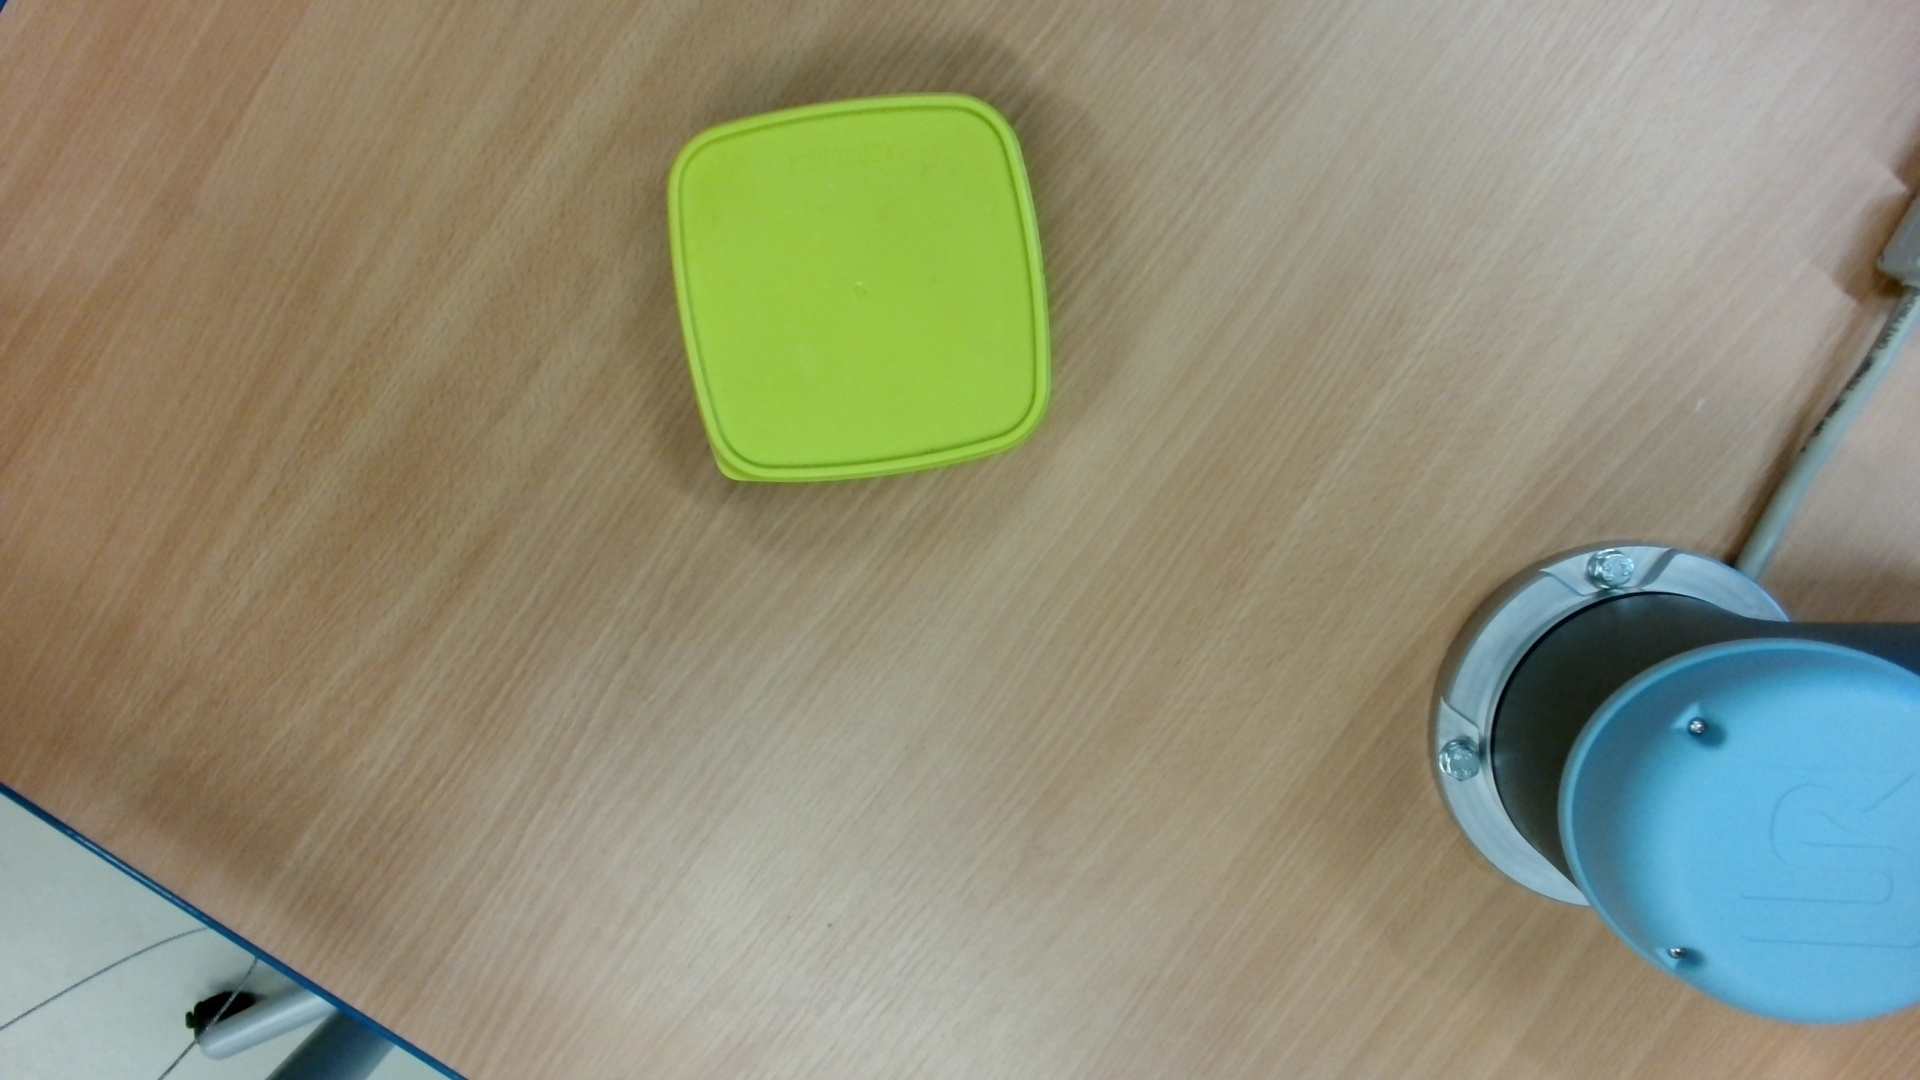Box: (659, 84, 1068, 495)
